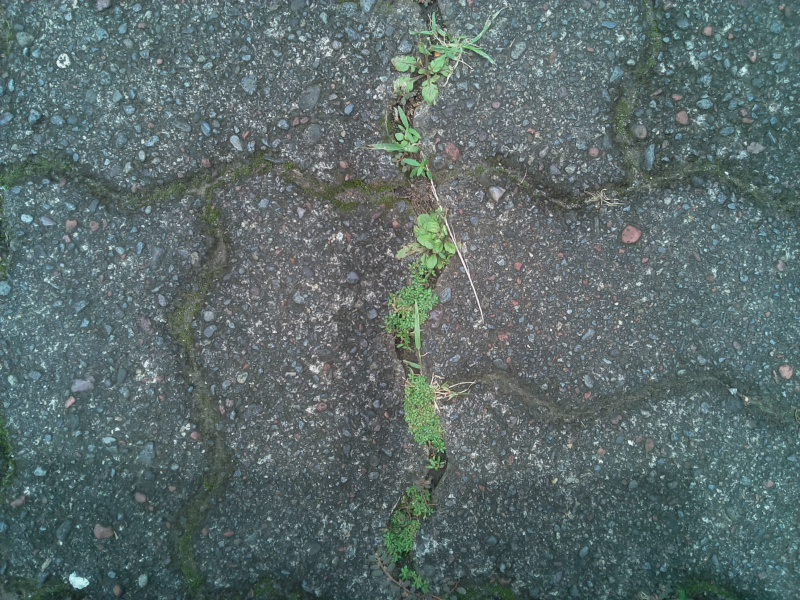Weed: (383, 366, 464, 455), (368, 261, 438, 346), (418, 17, 506, 75), (370, 481, 432, 561), (391, 209, 459, 275), (384, 48, 446, 100), (367, 102, 428, 153), (573, 177, 628, 216), (385, 566, 433, 600), (395, 150, 439, 186)
